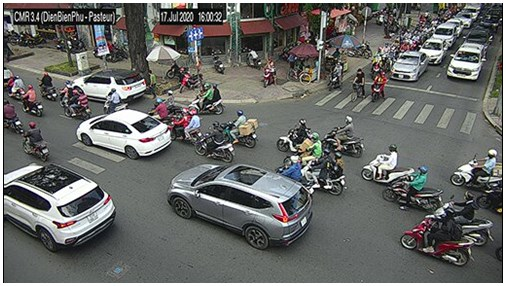xe_hoi: (166, 163, 313, 249), (4, 164, 116, 253), (76, 109, 172, 160), (72, 69, 145, 103), (390, 50, 428, 81), (420, 36, 448, 66), (465, 29, 490, 51), (435, 22, 457, 46)
xe_may: (401, 207, 473, 267), (424, 192, 493, 246), (383, 165, 442, 212), (361, 143, 416, 184), (450, 149, 503, 188), (321, 116, 364, 158), (194, 121, 235, 162), (275, 156, 314, 195), (316, 149, 346, 197), (223, 110, 258, 148), (167, 108, 202, 144), (189, 82, 225, 115), (21, 122, 50, 162), (277, 119, 312, 151), (20, 84, 44, 117), (66, 89, 91, 119), (103, 88, 129, 112), (149, 97, 171, 125), (38, 71, 58, 101), (4, 99, 20, 133), (371, 71, 387, 102), (328, 61, 343, 89), (262, 58, 277, 86), (59, 81, 74, 106), (9, 74, 23, 99), (245, 49, 262, 69), (370, 52, 382, 77)
xe_taxi: (446, 42, 486, 81)
